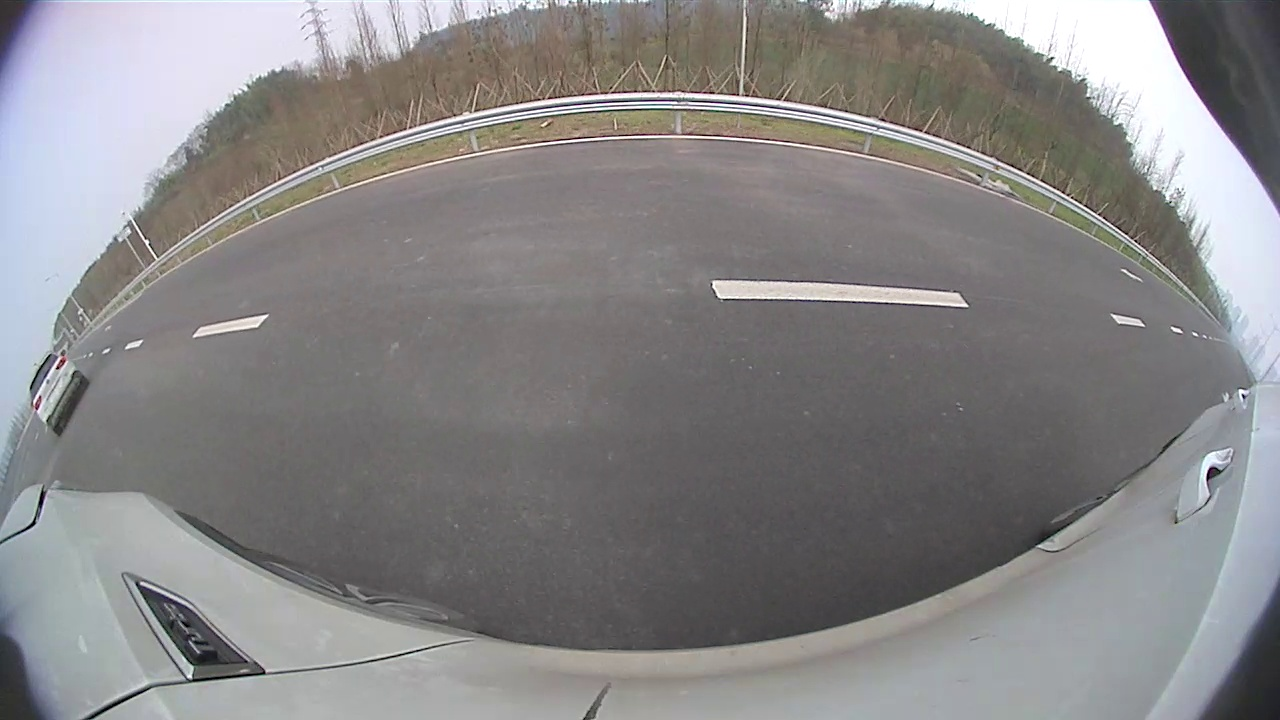car: (29, 350, 88, 437)
